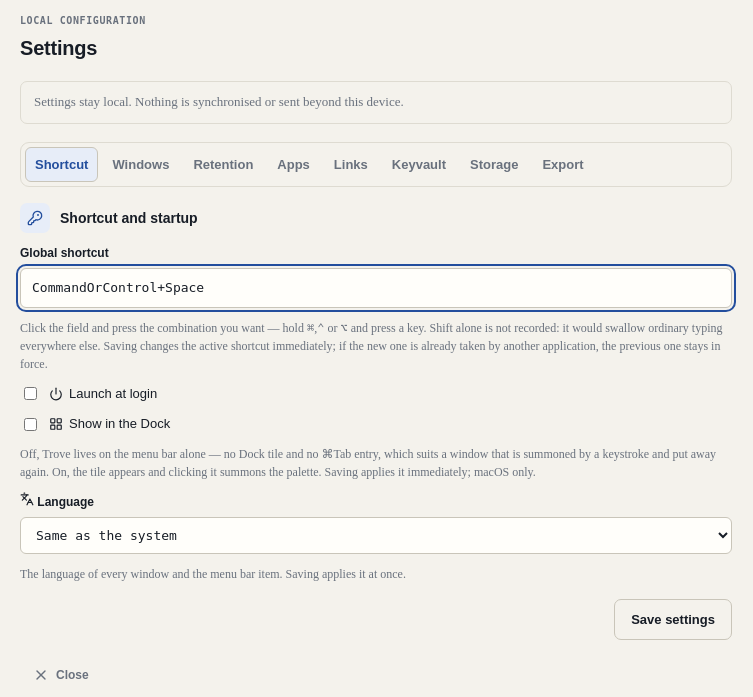
Test case: SettingsPanel validation and transactions › rejects retention outside integer 1 through 3650: 1.5
Click the tab "Retention" at (223, 165), box left=183, top=147, right=263, bottom=182
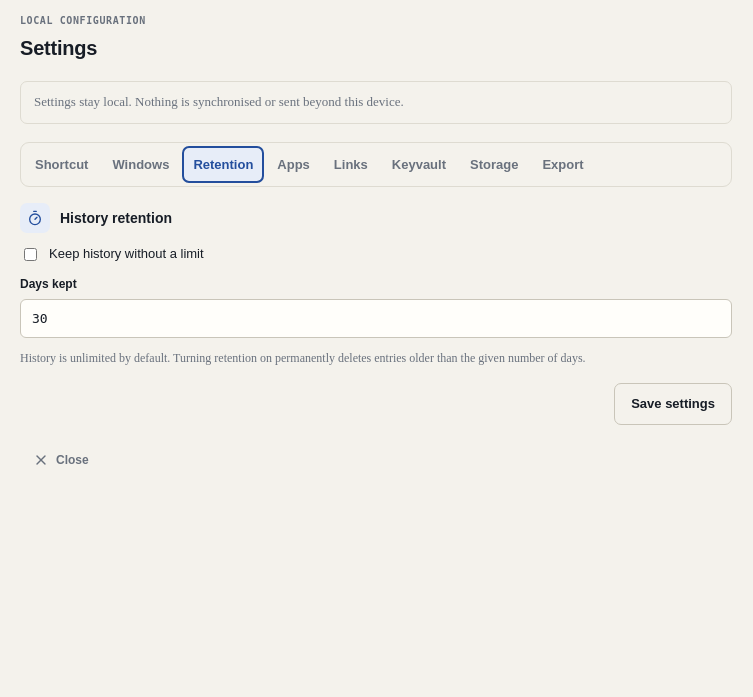
Replace the text in the number field labelled "Days kept" with "1.5" at (376, 319), box left=20, top=299, right=732, bottom=338
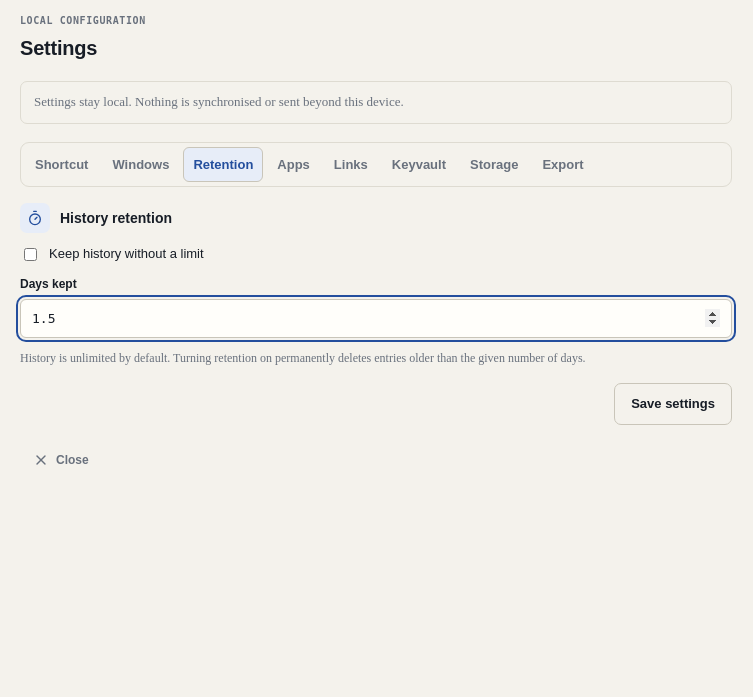
Click the button "Save settings" at (673, 404), box left=614, top=383, right=732, bottom=425
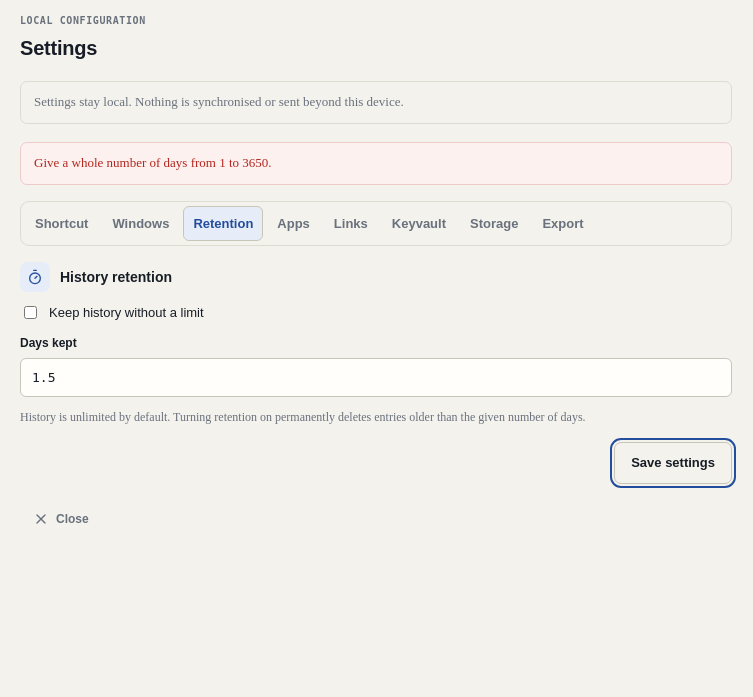
Now the text "Give a whole number of days from 1 to 3650." is shown, box left=20, top=142, right=732, bottom=185
